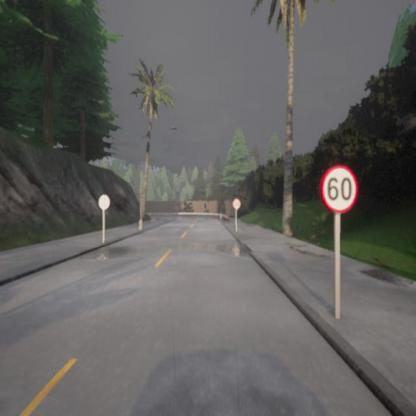traffic_sign_60: (320, 165, 358, 213)
